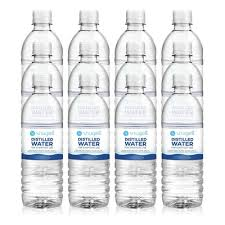Botella: (20, 6, 204, 213)
